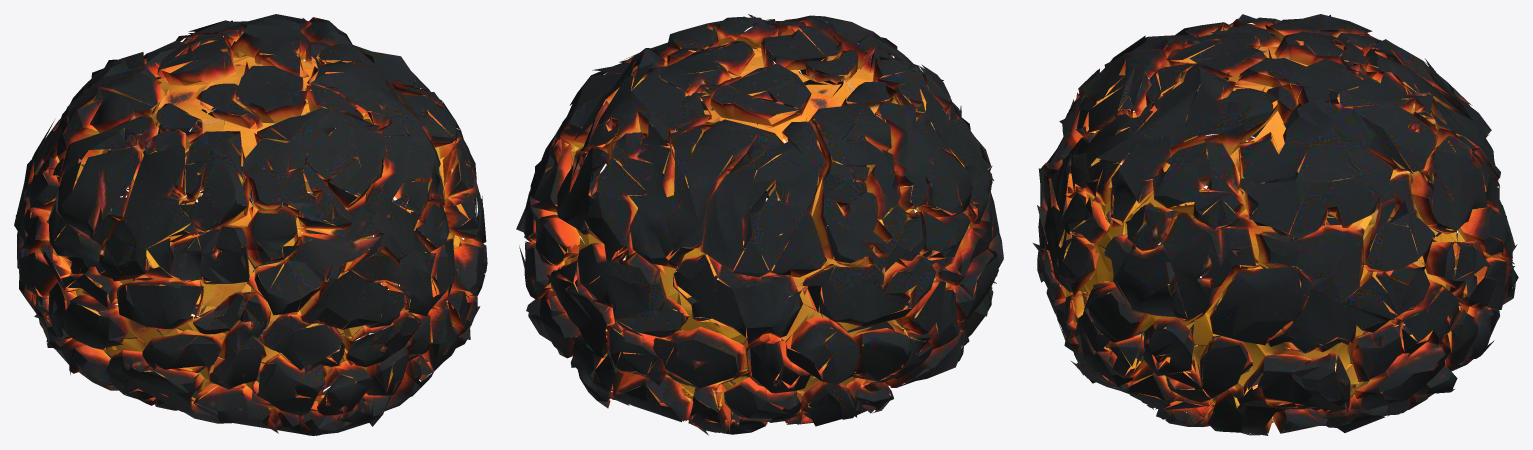
The model's file is meteor_pieces.glb.
The picture shows the model from 3 angles, left to right: view 1: azimuth 30°, elevation 25°; view 2: azimuth 150°, elevation 25°; view 3: azimuth 270°, elevation 25°; orthographic projection.
Parts seen in each view (by area): view 1: chunk_7, chunk_11, chunk_5, chunk_4, chunk_6, chunk_3, chunk_0, chunk_9, chunk_2, chunk_10, chunk_1, chunk_8; view 2: chunk_8, chunk_0, chunk_9, chunk_7, chunk_1, chunk_4, chunk_2, chunk_5, chunk_6, chunk_10, chunk_11; view 3: chunk_2, chunk_5, chunk_10, chunk_0, chunk_1, chunk_7, chunk_6, chunk_3, chunk_8, chunk_9, chunk_4, chunk_11.
Part boxes in pixels (<box>): chunk_7: <box>56,66,345,256</box>; chunk_11: <box>146,249,375,428</box>; chunk_5: <box>228,54,480,294</box>; chunk_4: <box>24,204,185,411</box>; chunk_6: <box>256,289,477,435</box>; chunk_3: <box>287,179,429,331</box>; chunk_0: <box>130,14,327,123</box>; chunk_9: <box>14,56,133,245</box>; chunk_2: <box>232,20,463,189</box>; chunk_10: <box>231,138,487,353</box>; chunk_1: <box>102,114,422,371</box>; chunk_8: <box>15,76,184,357</box>; chunk_8: <box>591,181,932,429</box>; chunk_0: <box>530,50,827,280</box>; chunk_9: <box>716,119,933,322</box>; chunk_7: <box>785,16,986,217</box>; chunk_1: <box>516,228,793,435</box>; chunk_4: <box>851,167,1003,401</box>; chunk_2: <box>516,26,773,233</box>; chunk_5: <box>631,14,831,124</box>; chunk_6: <box>653,145,894,343</box>; chunk_10: <box>572,113,784,340</box>; chunk_11: <box>855,112,999,371</box>; chunk_2: <box>1208,52,1428,344</box>; chunk_5: <box>1054,49,1269,284</box>; chunk_10: <box>1071,241,1336,435</box>; chunk_0: <box>1268,26,1504,274</box>; chunk_1: <box>1277,236,1518,433</box>; chunk_7: <box>1059,14,1328,123</box>; chunk_6: <box>1037,251,1236,431</box>; chunk_3: <box>1037,105,1099,265</box>; chunk_8: <box>1331,84,1517,309</box>; chunk_9: <box>1319,15,1491,131</box>; chunk_4: <box>1112,63,1340,308</box>; chunk_11: <box>1033,101,1209,335</box>.
Bounding box in the file's own units: 1.26 × 1 × 1.3.
1 material, 1 textured.
